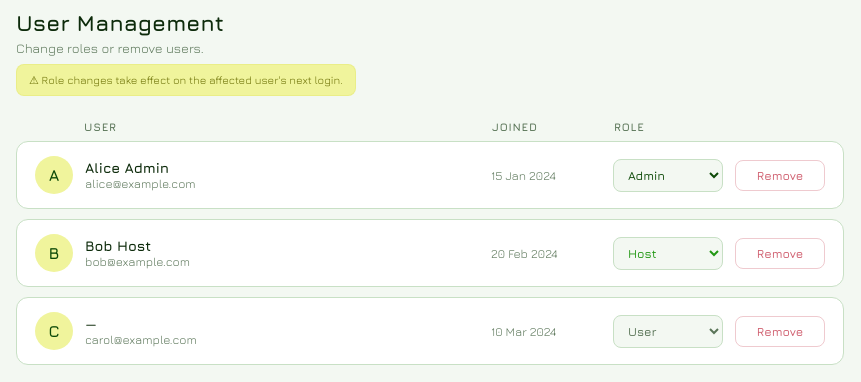
Test case: AdminPanel — delete user › removes user from the list after successful delete
Expected: the text "Alice Admin" is shown, left=85, top=159, right=169, bottom=176
Click the button "Remove" in the row of "15 Jan 2024". click: click(780, 175)
box: left=735, top=160, right=825, bottom=190
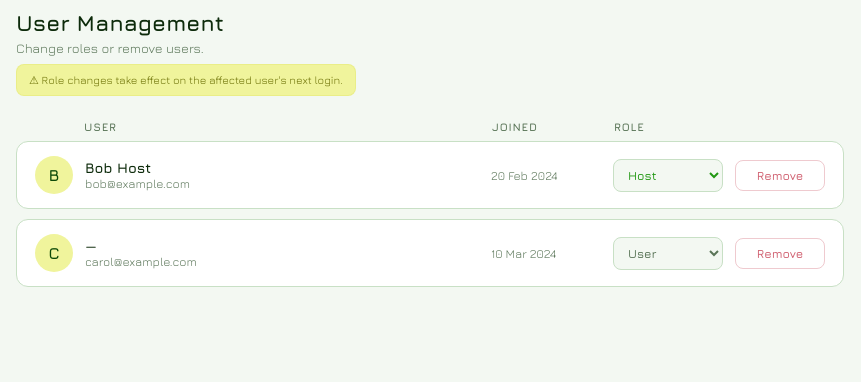
Expected: the text "Alice Admin" is gone
